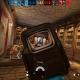Character: (16, 43, 24, 59), (10, 45, 18, 59), (38, 39, 42, 45)
Friend_label: (15, 40, 24, 44), (12, 41, 18, 45), (64, 40, 70, 44)
Head: (18, 43, 22, 46), (15, 45, 17, 48), (40, 39, 40, 40)
